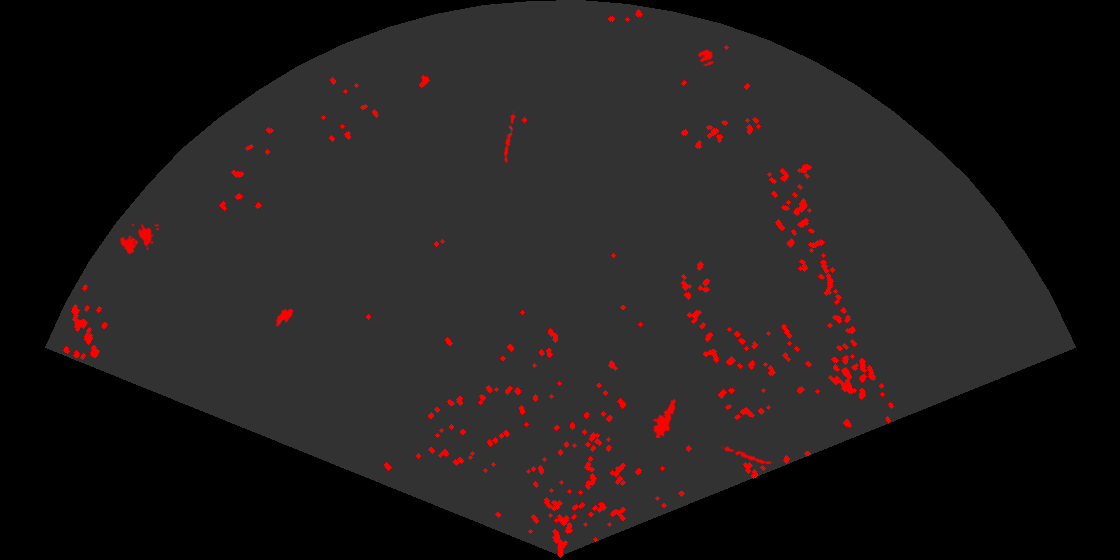AUV: (274, 307, 295, 328)
ball: (696, 48, 715, 67)
cage: (118, 224, 159, 256)
chain: (720, 444, 773, 466), (502, 111, 517, 163)
frogman: (651, 398, 677, 438)
